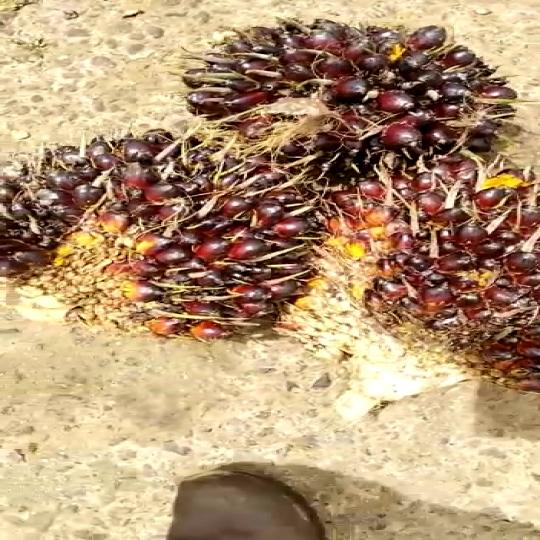kurang masak: (0, 140, 334, 364), (309, 161, 540, 397), (198, 16, 532, 178)
